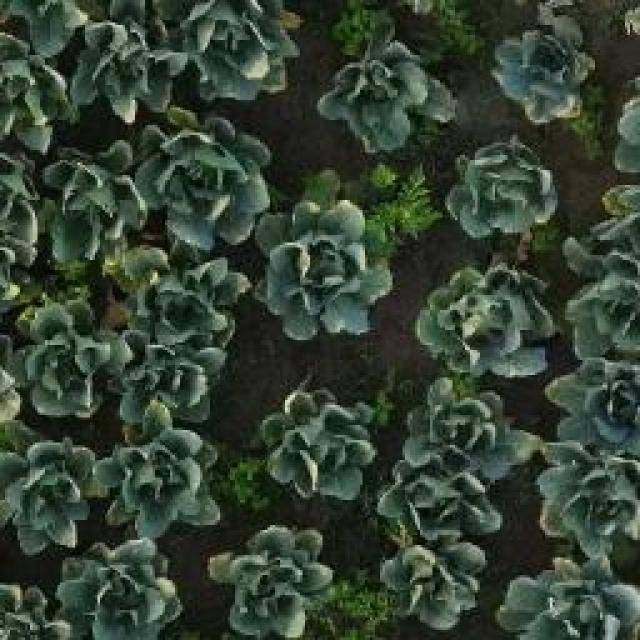cabbage: (140, 125, 270, 242), (271, 214, 383, 331), (445, 135, 555, 253), (375, 512, 485, 630), (102, 416, 222, 522), (430, 266, 547, 373), (215, 528, 330, 634), (530, 442, 640, 552), (0, 441, 101, 554), (45, 145, 146, 257), (0, 320, 118, 415), (500, 561, 640, 640), (186, 0, 302, 91), (61, 550, 180, 638), (78, 15, 183, 111), (403, 387, 523, 469), (134, 259, 248, 342), (497, 28, 595, 122), (272, 400, 370, 493), (107, 336, 221, 409), (331, 45, 418, 139), (555, 363, 640, 452), (388, 467, 500, 530), (582, 274, 640, 365)
